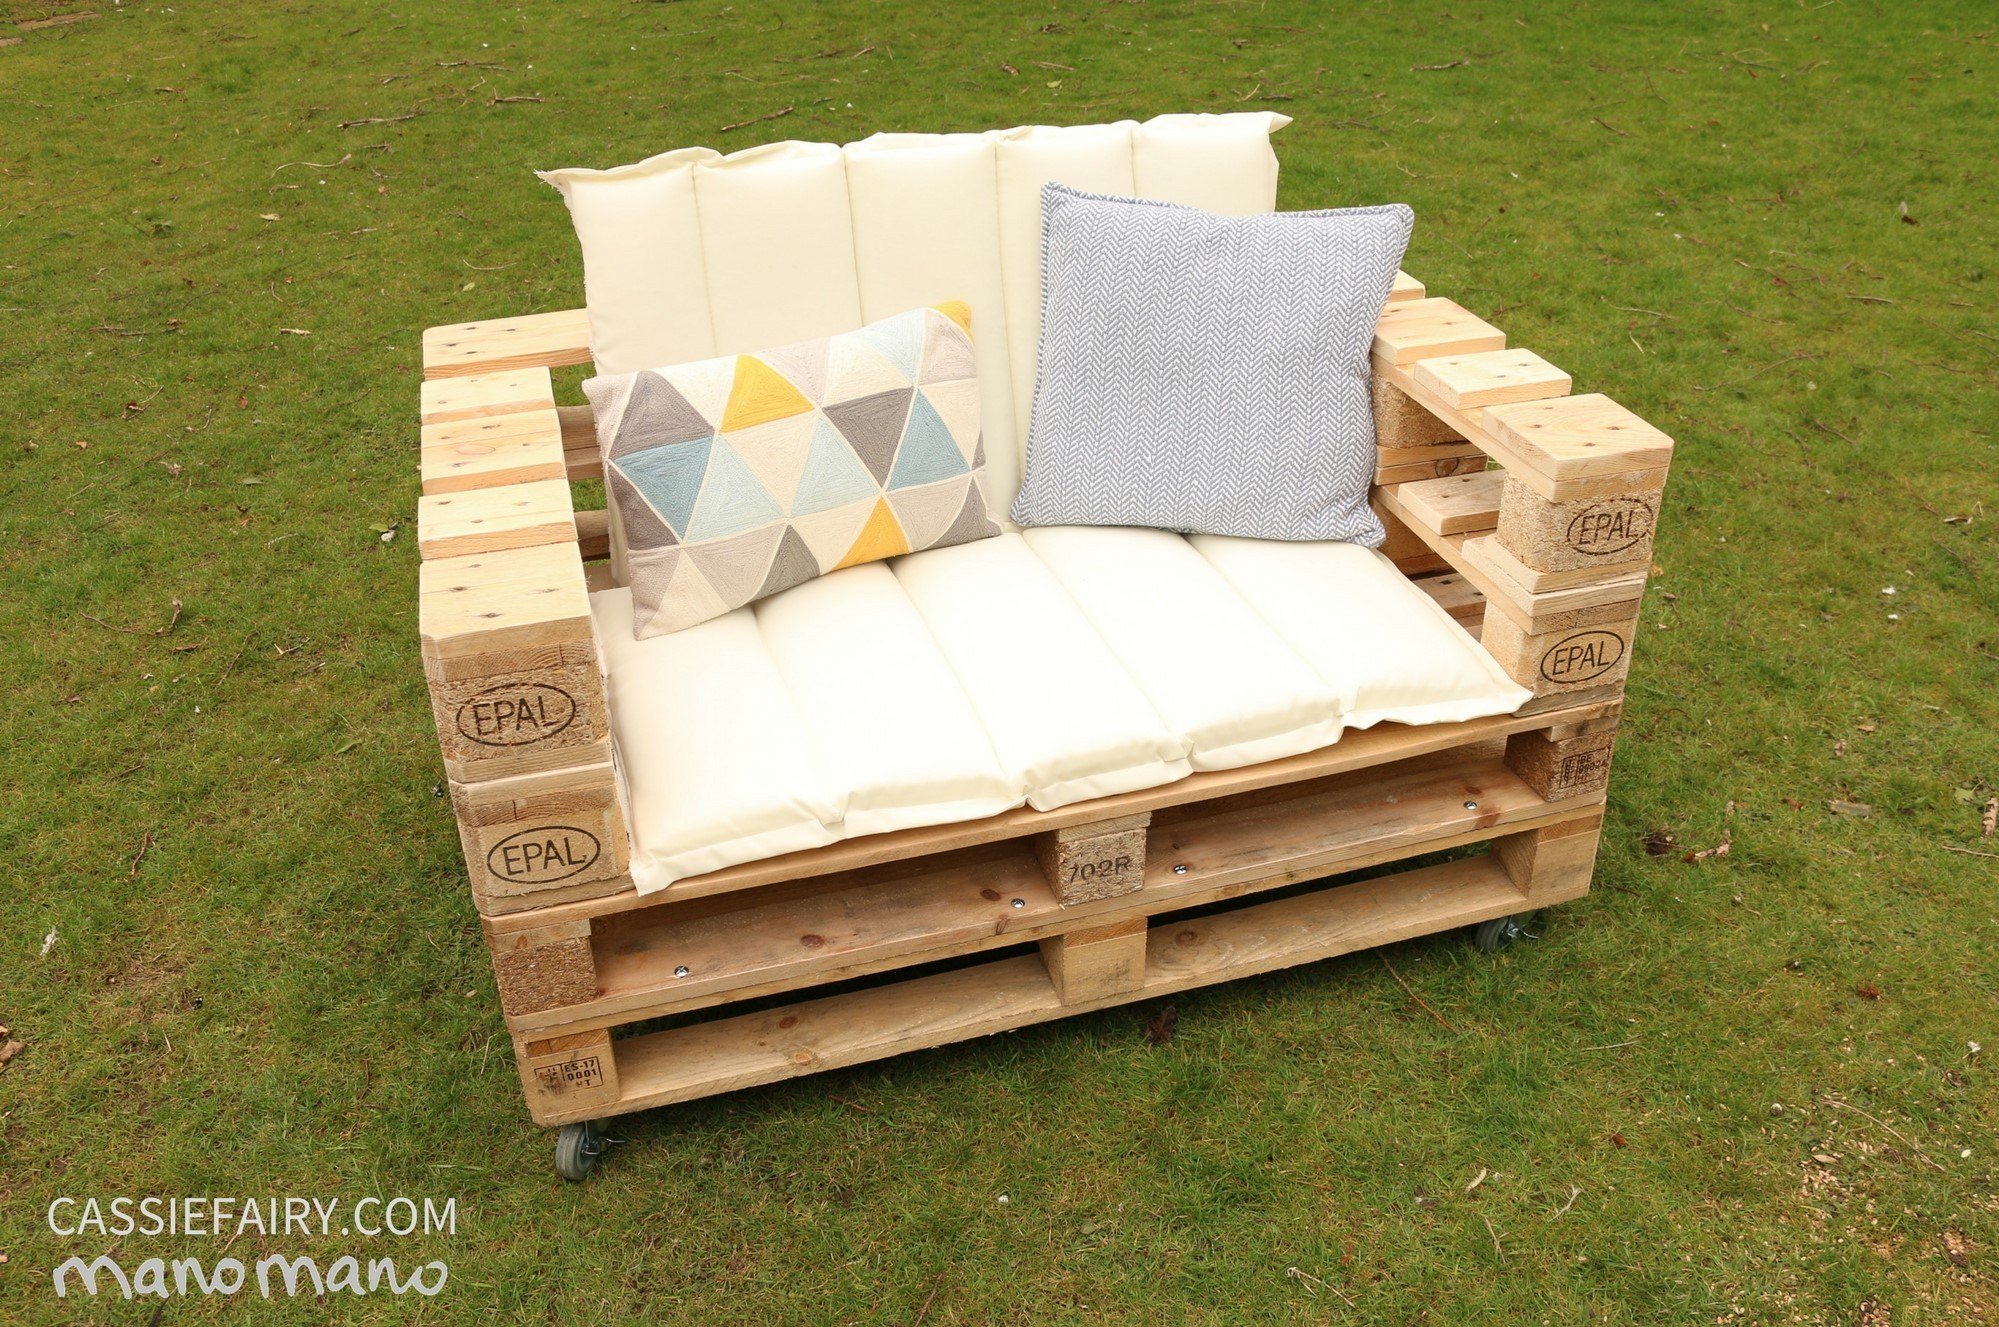chairs: (413, 127, 1673, 1155)
